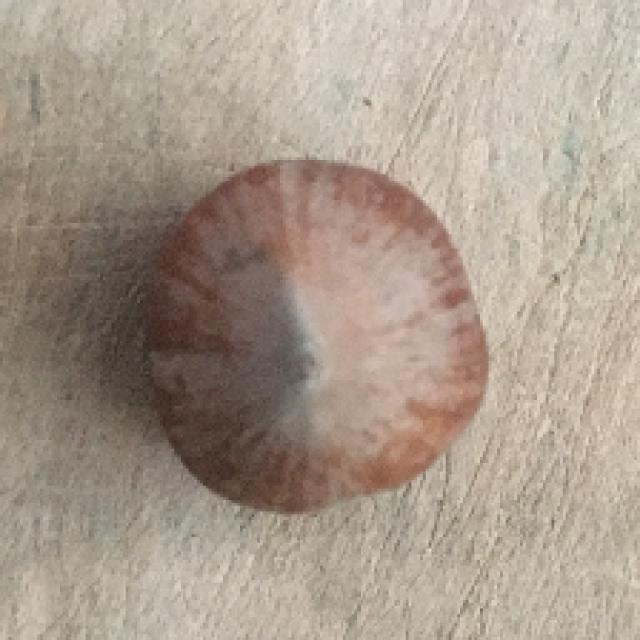qualityHazelnut: (134, 150, 495, 522)
